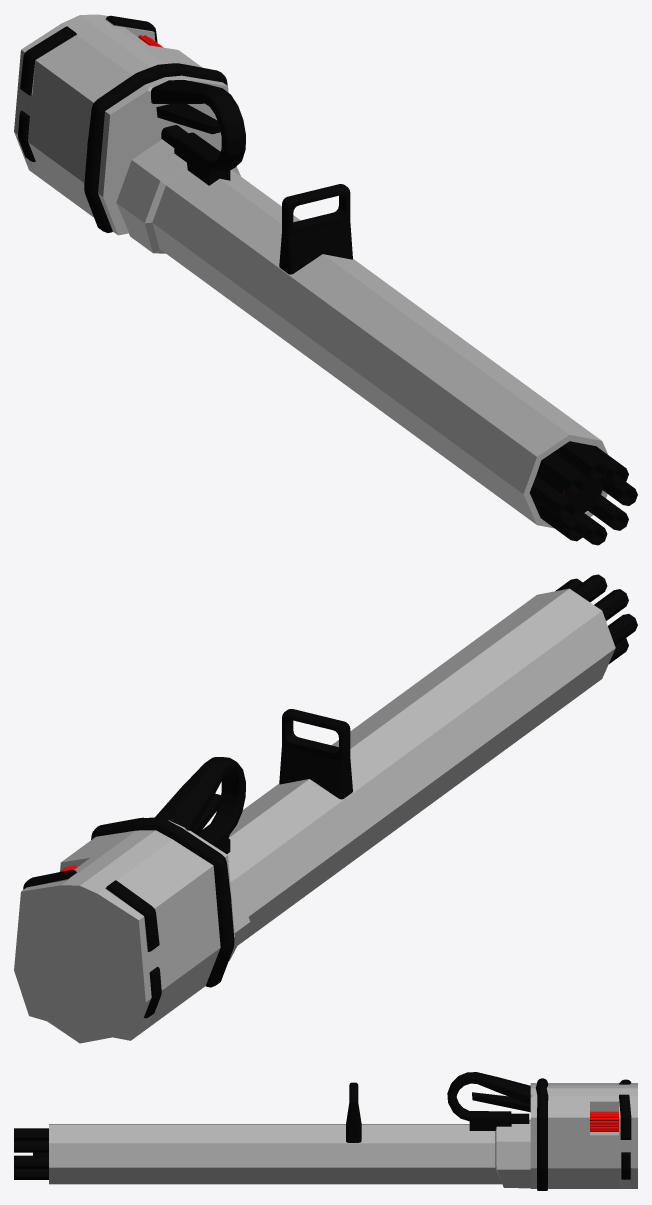
File: minigun.fbx
3 renders of one model, top to bottom at view 1: azimuth 30°, elevation 25°; view 2: azimuth 150°, elevation 25°; view 3: azimuth 270°, elevation 25°, orthographic. The views are drawn at different scales.
Parts seen in each view (by area): view 1: Cylinder, Cylinder.001; view 2: Cylinder, Cylinder.001; view 3: Cylinder, Cylinder.001.
Part boxes in pixels (left/top/right/bottom): Cylinder: left=14, top=14, right=607, bottom=528; Cylinder.001: left=529, top=441, right=637, bottom=545; Cylinder: left=14, top=588, right=615, bottom=1043; Cylinder.001: left=555, top=574, right=637, bottom=663; Cylinder: left=33, top=1072, right=637, bottom=1190; Cylinder.001: left=14, top=1128, right=48, bottom=1179.
Bounding box in the file's own units: 23.88 × 29.01 × 146.
